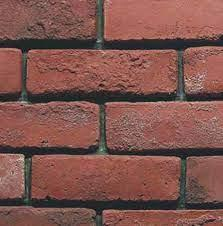Bricks: (30, 49, 174, 92), (37, 157, 176, 201), (107, 106, 223, 145), (1, 101, 97, 148), (108, 1, 223, 38), (1, 1, 92, 39), (0, 206, 95, 226), (185, 47, 223, 94), (103, 212, 223, 226), (188, 157, 223, 204), (0, 156, 23, 197), (1, 48, 20, 97)
